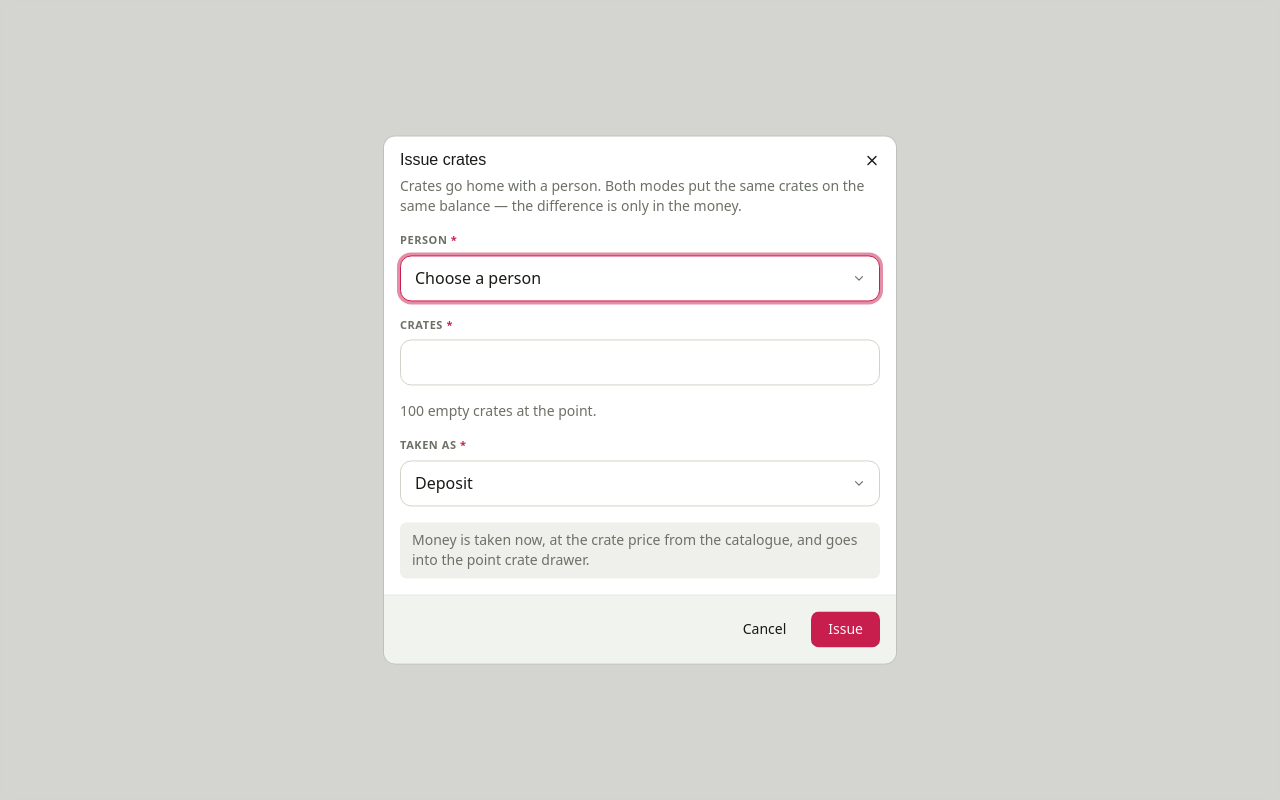
Test: IssueCratesDialog › refuses a fractional count before the server sees it
Select "Василь Яремчук" in the dropdown labelled "Person" at (640, 278), box [400, 255, 880, 301]
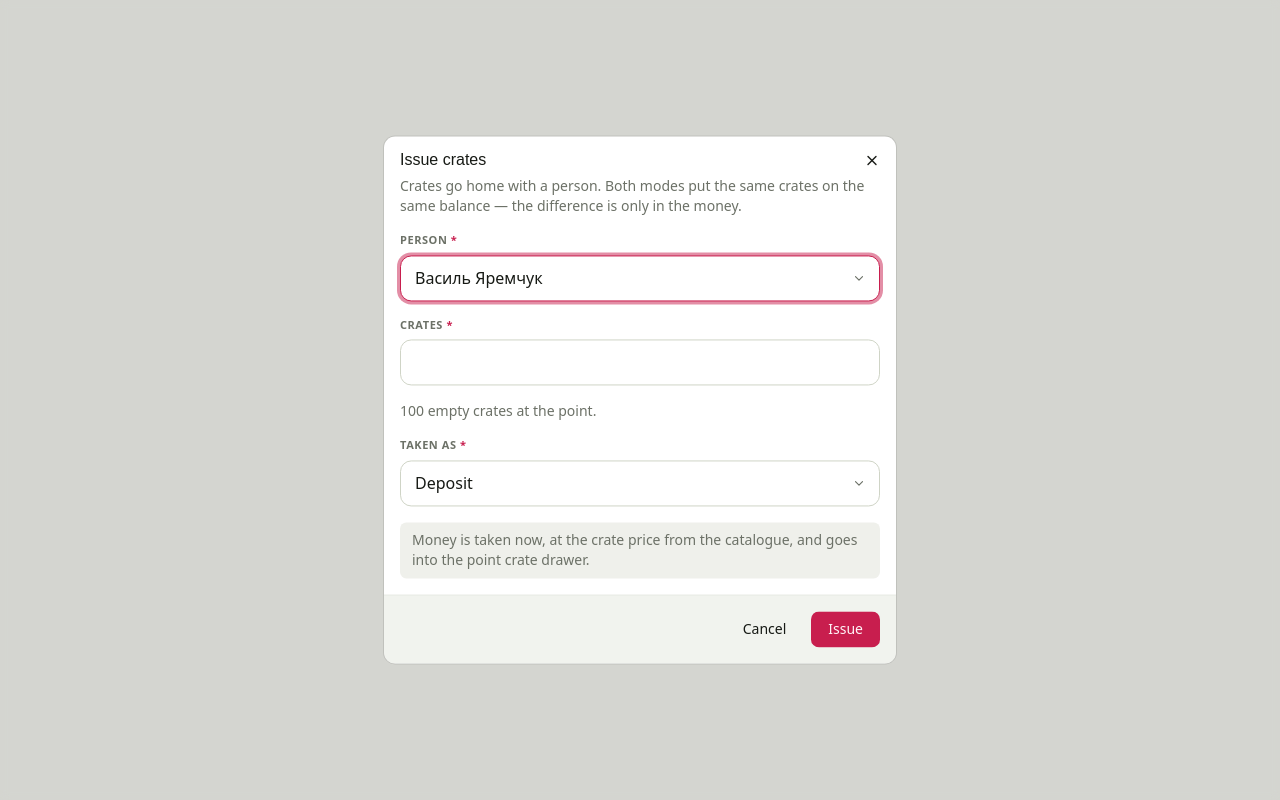
Type "2.5" into the field labelled "Crates".
click(640, 363); type("2.5")  # box [400, 340, 880, 386]
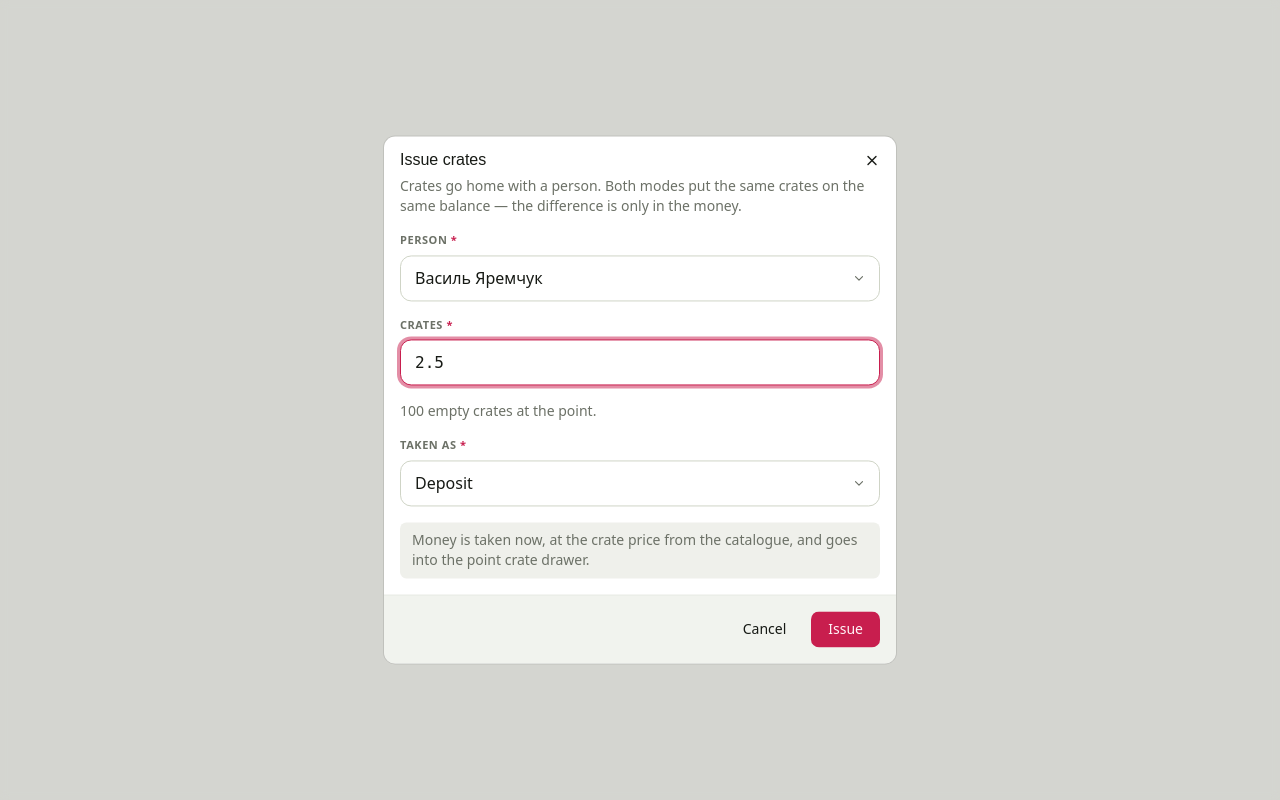
Click the button "Issue".
click(846, 630)  # box [811, 612, 880, 648]
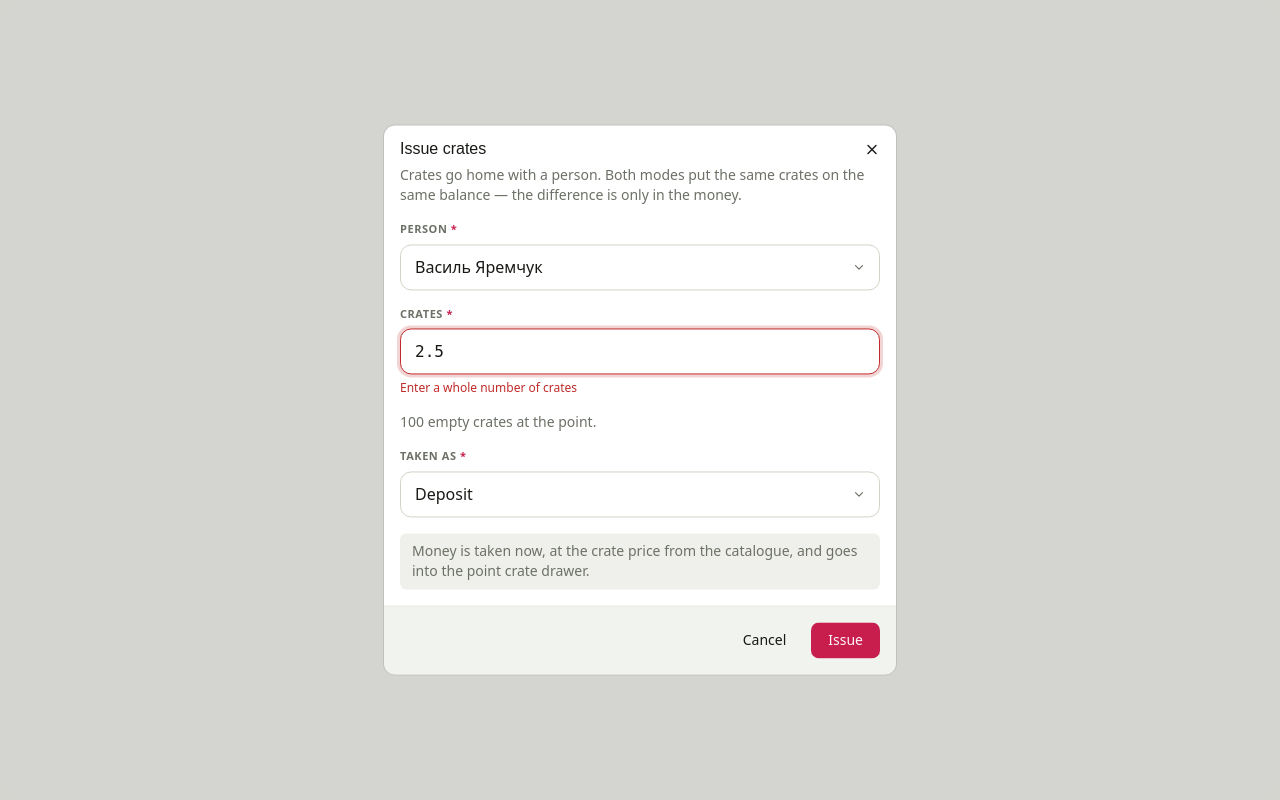
Expected: the text "Enter a whole number of crates" is shown, [400, 380, 577, 397]
